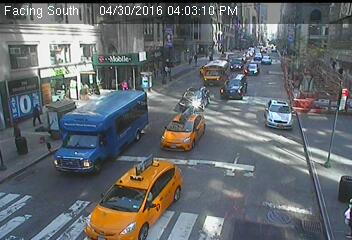neg: (282, 121, 306, 152), (206, 158, 221, 178), (315, 68, 330, 88), (260, 152, 274, 170), (204, 90, 217, 107), (246, 71, 258, 86)
pos: (25, 100, 45, 128), (188, 51, 201, 68), (119, 78, 127, 89)
